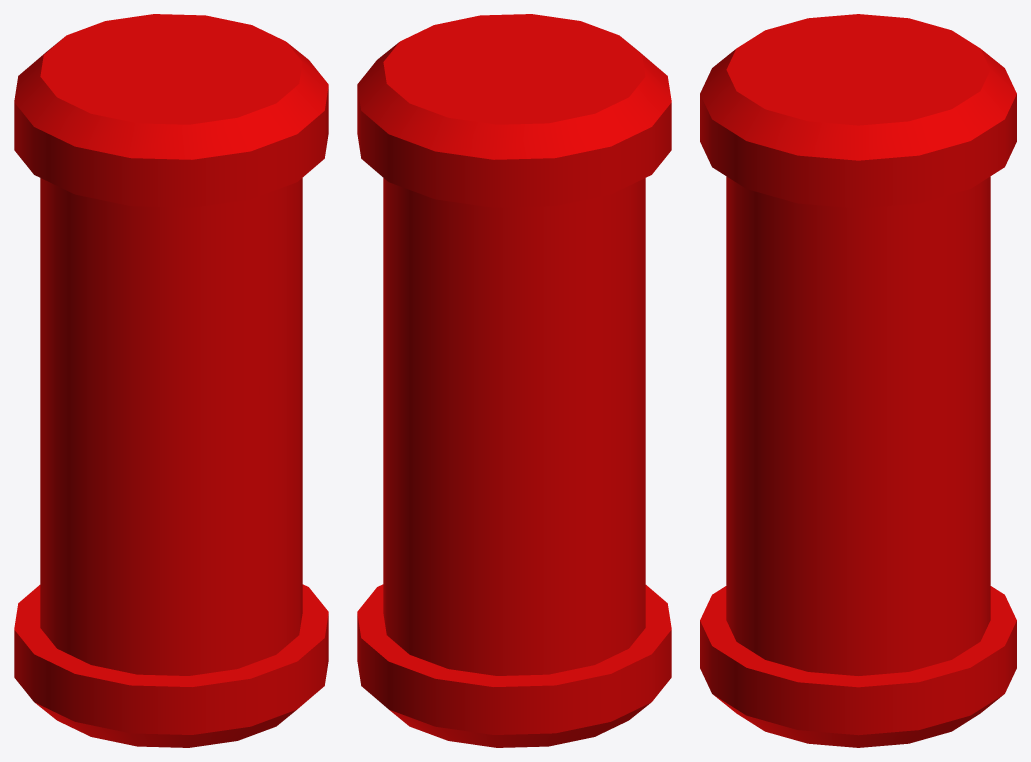
The model's file is u2_antimatter.fbx.
The picture shows the model from 3 angles, left to right: view 1: azimuth 30°, elevation 25°; view 2: azimuth 150°, elevation 25°; view 3: azimuth 270°, elevation 25°; orthographic projection.
Visible parts, largest first — view 1: antimatter_low.001; view 2: antimatter_low.001; view 3: antimatter_low.001.
Boxes of the visible parts, x1=… form: antimatter_low.001: x1=14, y1=14, x2=328, y2=747; antimatter_low.001: x1=357, y1=14, x2=671, y2=747; antimatter_low.001: x1=700, y1=14, x2=1016, y2=747.
Bounding box in the file's own units: 6 × 13 × 6.
